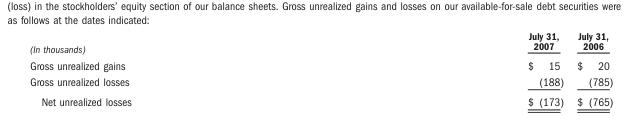table: (29, 29, 612, 108)
table column: (29, 29, 328, 108), (328, 29, 569, 108), (569, 29, 612, 108)
table column header: (29, 29, 612, 56)
table row: (29, 29, 612, 56), (29, 73, 612, 91), (29, 56, 612, 73), (29, 91, 612, 108)
